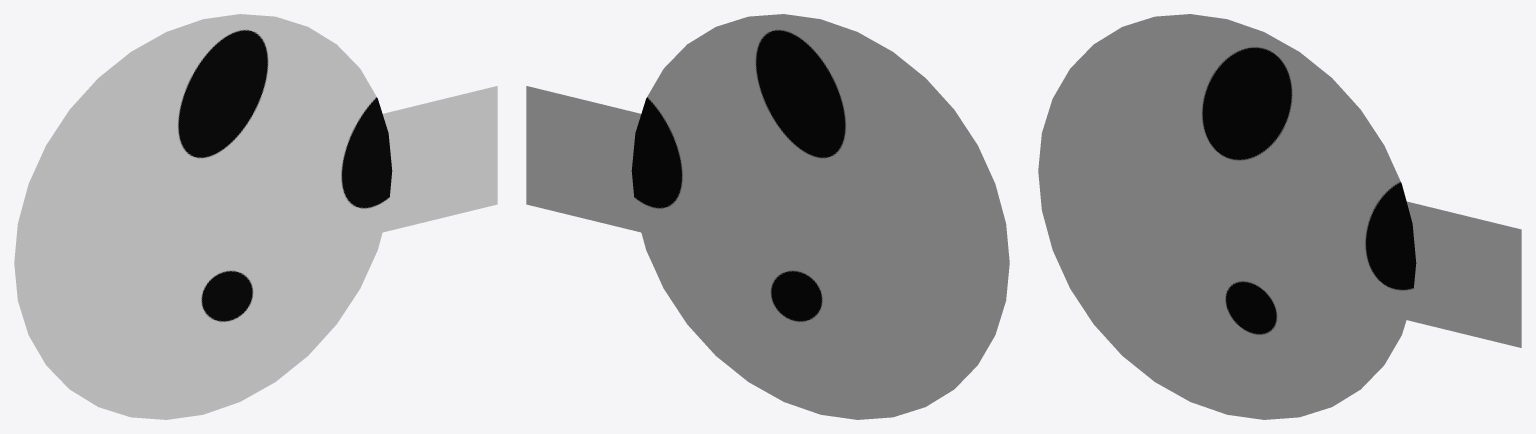
Rendered from player.obj.
The picture shows the model from 3 angles, left to right: view 1: azimuth 30°, elevation 25°; view 2: azimuth 150°, elevation 25°; view 3: azimuth 330°, elevation 25°; orthographic projection.
Visible parts, largest first — view 1: 円; view 2: 円; view 3: 円.
Part boxes in pixels (x1,y1,x2,y2): 円: [14, 14, 497, 419]; 円: [526, 14, 1009, 419]; 円: [1038, 14, 1521, 419].
Size of the model in its own units: 2.56 by 2 by 0.
1 material, 1 textured.
